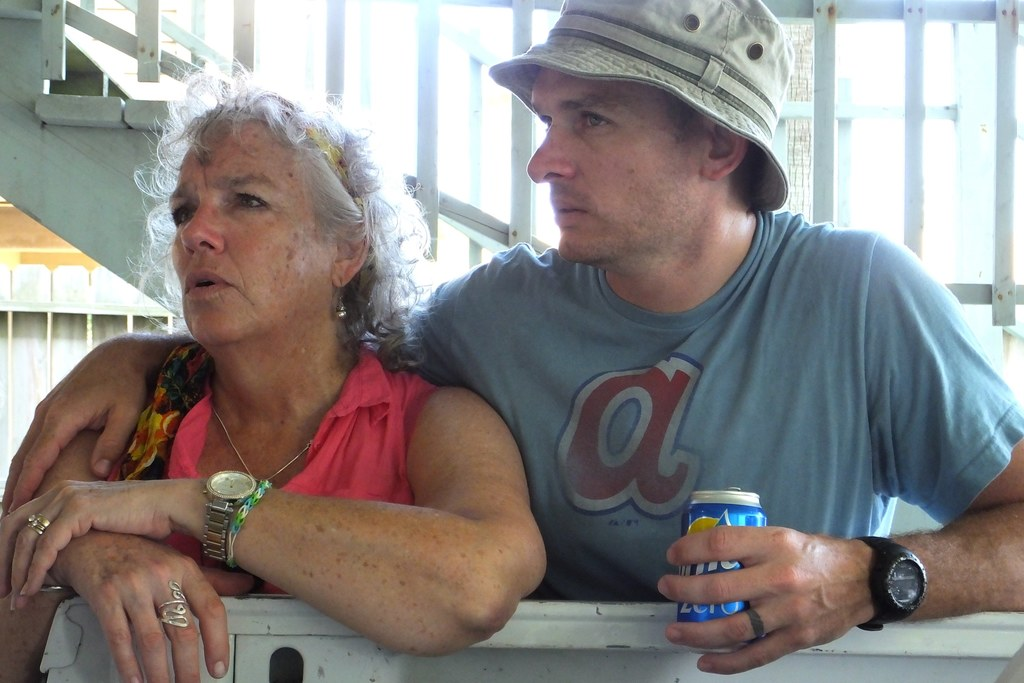Human_hand: (665, 513, 905, 649), (0, 333, 156, 516), (51, 534, 230, 682), (0, 481, 179, 616)
